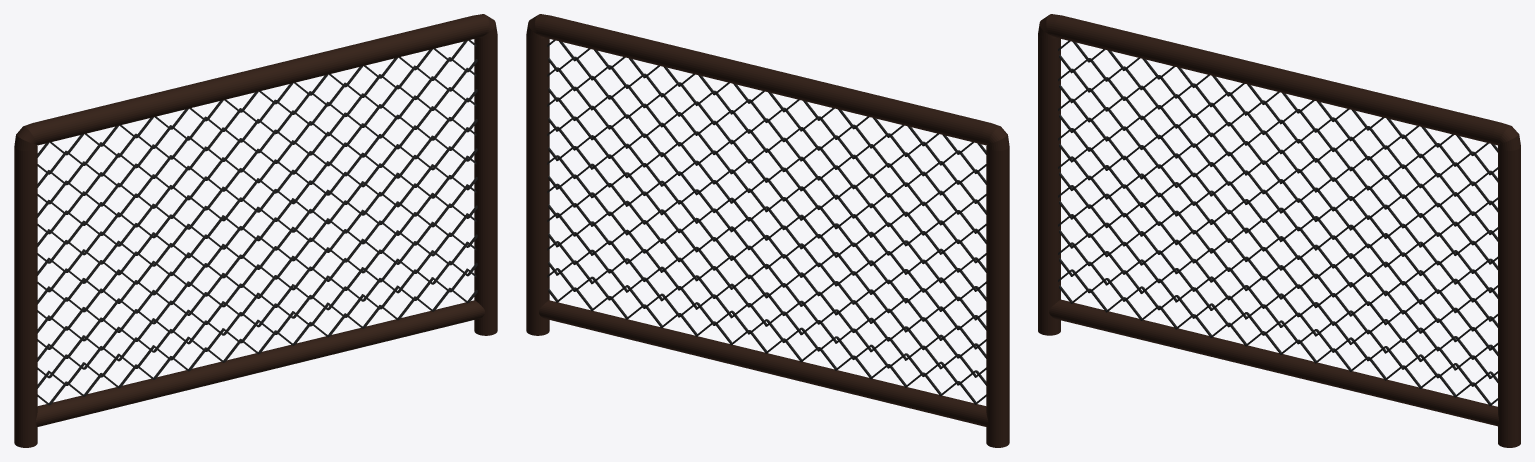
The model's file is Fences.fbx.
The picture shows the model from 3 angles, left to right: view 1: azimuth 30°, elevation 25°; view 2: azimuth 150°, elevation 25°; view 3: azimuth 330°, elevation 25°; orthographic projection.
Parts seen in each view (by area): view 1: Cylinder, Cube.002; view 2: Cylinder, Cube.002; view 3: Cylinder, Cube.002.
Part boxes in pixels (x1,y1,x2,y2): Cylinder: (14,14,497,447); Cube.002: (37,40,477,405); Cylinder: (526,14,1009,447); Cube.002: (547,40,986,404); Cylinder: (1038,14,1520,447); Cube.002: (1058,40,1497,405).
Size of the model in its own units: 1947 by 1230 by 81.29.
